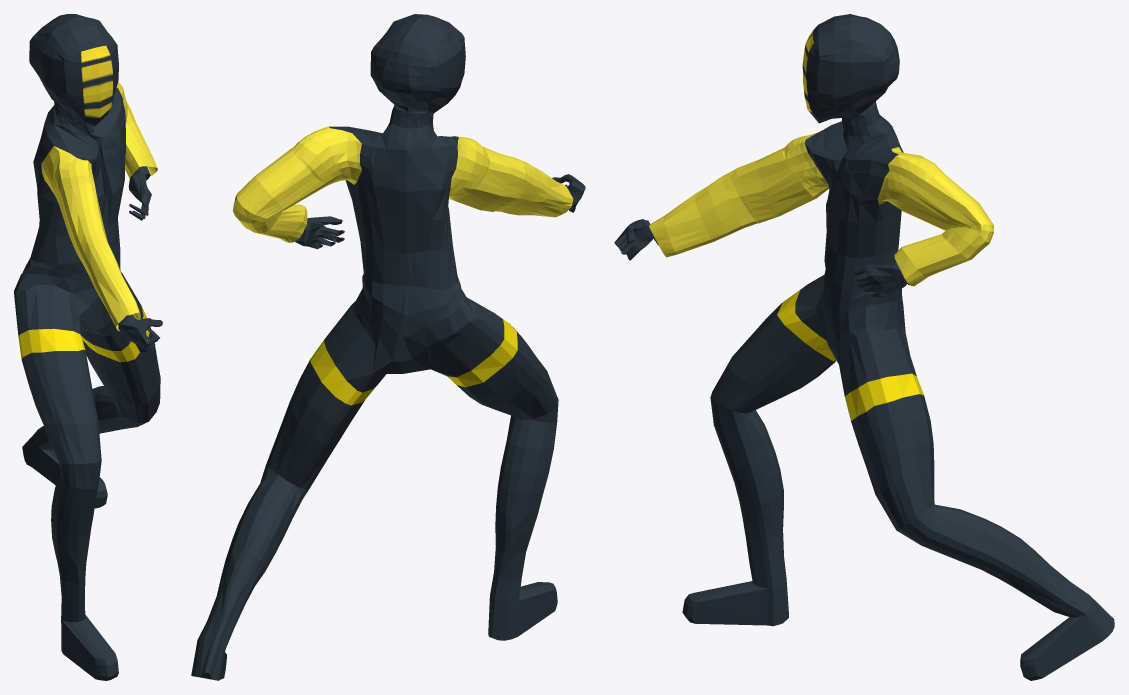
The model's file is Sentry_WR_000018.obj.
3 renders of one model, left to right at view 1: azimuth 30°, elevation 25°; view 2: azimuth 150°, elevation 25°; view 3: azimuth 270°, elevation 25°, orthographic. The views are drawn at different scales.
Visible parts, largest first — view 1: Cube; view 2: Cube; view 3: Cube.
Boxes of the visible parts, left/top/right/bottom form: Cube: left=14, top=14, right=162, bottom=680; Cube: left=191, top=14, right=585, bottom=680; Cube: left=614, top=14, right=1114, bottom=680.
Size of the model in its own units: 1.2 by 3.59 by 2.61.
